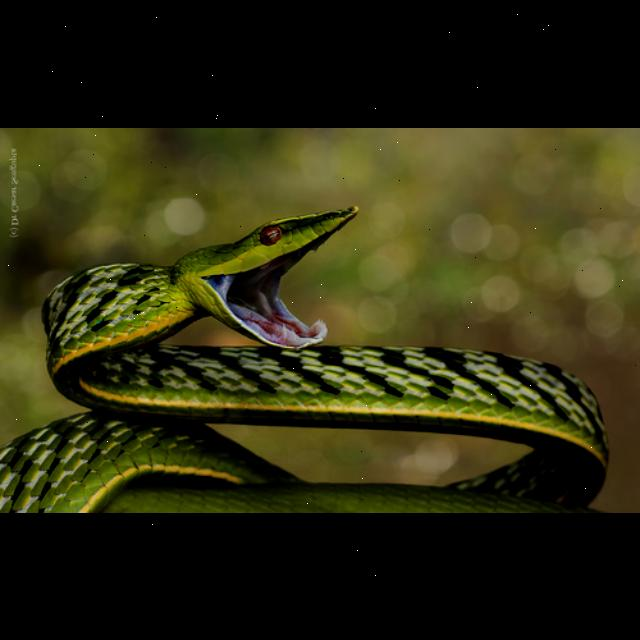snake: (0, 202, 612, 512)
